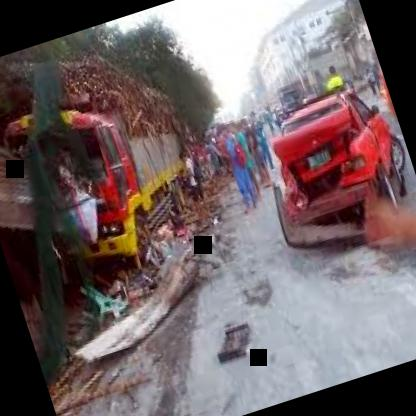accident: (0, 20, 243, 370), (225, 51, 416, 297)
